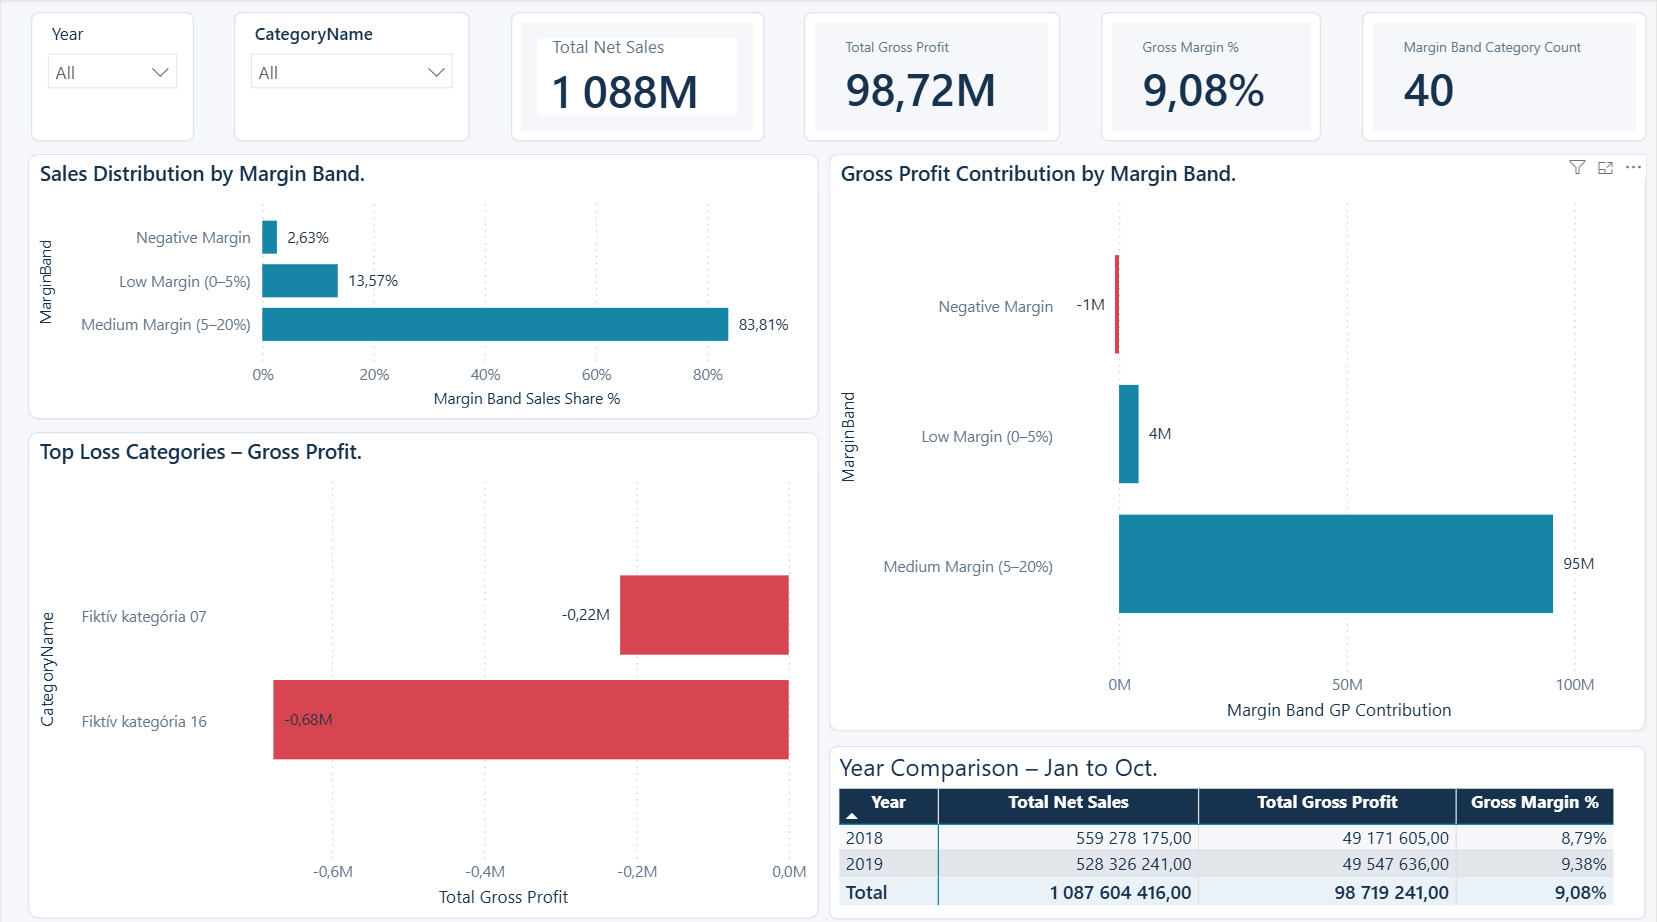

The dashboard page shown, as its layout file describes it:
{"tool":"powerbi","page":{"name":"Category Performance Overview","canvas":[1280,720],"ordinal":0},"visuals":[{"type":"cardVisual","fields":{"Data":["fact_sales.Total Net Sales"]},"box":[393.8,10,195.6,100],"z":0},{"type":"cardVisual","fields":{"Data":["fact_sales.Gross Margin %"]},"box":[849.8,10,170,100],"z":1000},{"type":"cardVisual","fields":{"Data":["fact_sales.Margin Band Category Count"]},"box":[1051.1,10,220,100],"z":2000},{"type":"cardVisual","fields":{"Data":["fact_sales.Total Gross Profit"]},"box":[620.7,10,197.8,100],"z":3000},{"type":"clusteredBarChart","title":"Sales Distribution by Margin Band.","fields":{"Category":["dim_margin_band.MarginBand"],"Y":["fact_sales.Margin Band Sales Share %"]},"box":[20.7,119.9,610.7,205.3],"z":4000},{"type":"clusteredBarChart","title":"Gross Profit Contribution by Margin Band.","fields":{"Category":["dim_margin_band.MarginBand"],"Y":["fact_sales.Margin Band GP Contribution"]},"box":[640,119.9,631.4,445.9],"z":5000},{"type":"clusteredBarChart","title":"Top Loss Categories – Gross Profit.","fields":{"Category":["dim_category.CategoryName"],"Y":["fact_sales.Total Gross Profit"]},"box":[20.7,334.7,610.7,376.1],"z":6000},{"type":"pivotTable","title":"Year Comparison – Jan to Oct.","fields":{"Rows":["dim_date.Year"],"Values":["fact_sales.Total Net Sales","fact_sales.Total Gross Profit","fact_sales.Gross Margin %"]},"box":[640,577,631.4,133.7],"z":7000},{"type":"slicer","fields":{"Values":["dim_date.Year"]},"box":[23.3,10,125.6,100],"z":8000},{"type":"slicer","fields":{"Values":["dim_category.CategoryName"]},"box":[180.2,10,182.2,100],"z":9000}]}

Visuals, with their boxes in screenshot pixels (x1, y1, x2, y2), scaled from the page's 1280x720 canvas onto the 1657x922 screenshot:
cardVisual - fact_sales.Total Net Sales: detection(510, 13, 763, 141)
cardVisual - fact_sales.Gross Margin %: detection(1100, 13, 1320, 141)
cardVisual - fact_sales.Margin Band Category Count: detection(1361, 13, 1645, 141)
cardVisual - fact_sales.Total Gross Profit: detection(804, 13, 1060, 141)
"Sales Distribution by Margin Band." clusteredBarChart: detection(27, 154, 817, 416)
"Gross Profit Contribution by Margin Band." clusteredBarChart: detection(828, 154, 1646, 725)
"Top Loss Categories – Gross Profit." clusteredBarChart: detection(27, 429, 817, 910)
"Year Comparison – Jan to Oct." pivotTable: detection(828, 739, 1646, 910)
slicer - dim_date.Year: detection(30, 13, 193, 141)
slicer - dim_category.CategoryName: detection(233, 13, 469, 141)
